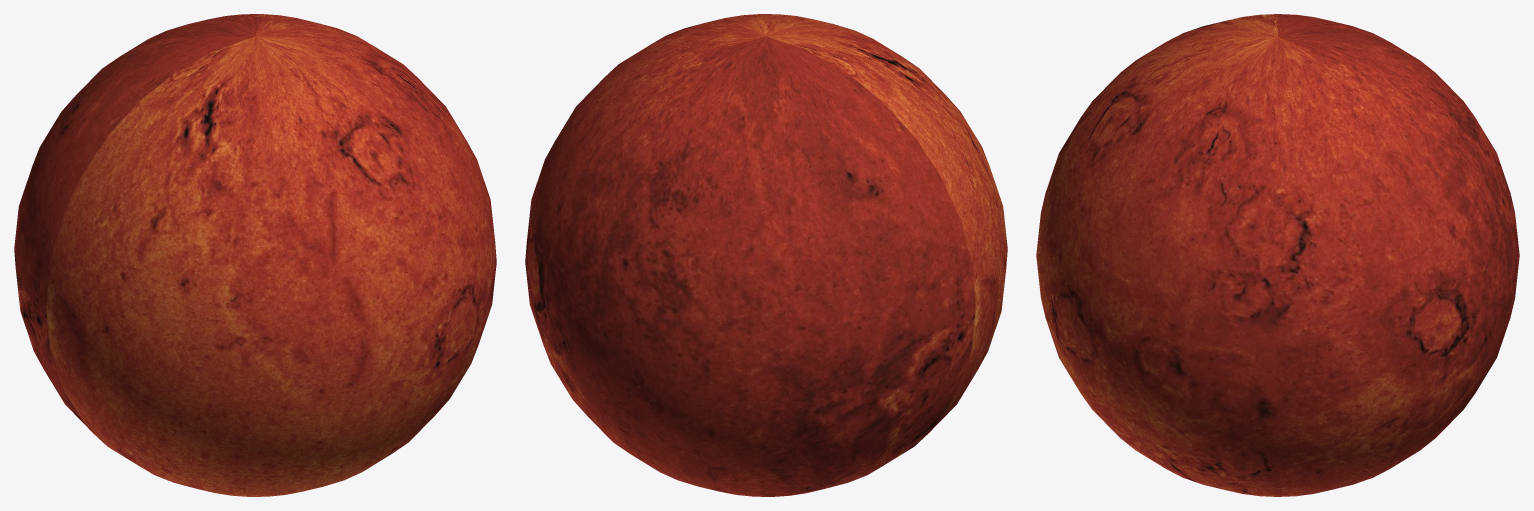
Rendered from Mars.fbx.
3 renders of one model, left to right at view 1: azimuth 30°, elevation 25°; view 2: azimuth 150°, elevation 25°; view 3: azimuth 270°, elevation 25°, orthographic.
Parts seen in each view (by area): view 1: Sphere; view 2: Sphere; view 3: Sphere.
Part boxes in pixels (bbox=[...]): Sphere: bbox=[14, 14, 496, 496]; Sphere: bbox=[525, 14, 1007, 496]; Sphere: bbox=[1036, 14, 1519, 496].
Size of the model in its own units: 200 by 200 by 200.
